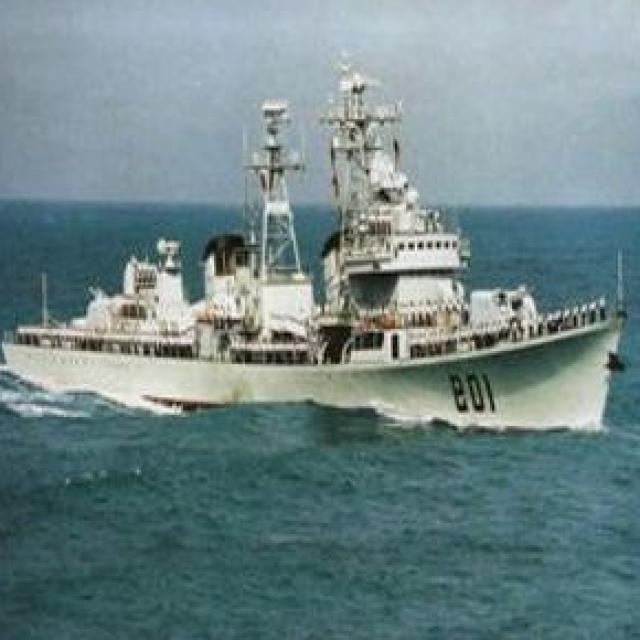navalvessels: (0, 64, 636, 428)
